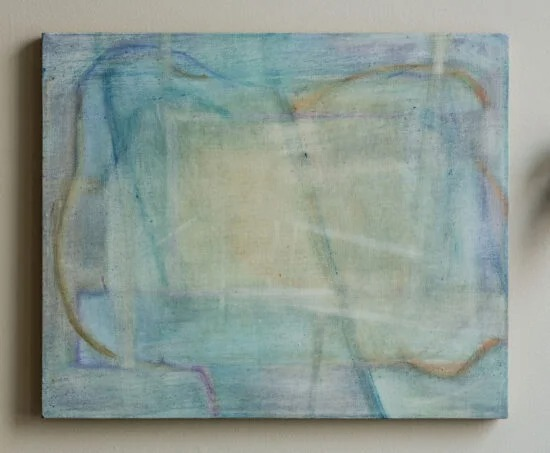painting: (39, 31, 511, 422)
